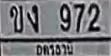2: (87, 3, 99, 31)
7: (73, 3, 84, 31)
9: (59, 3, 70, 31)
A02: (9, 5, 23, 32)
A07: (26, 4, 38, 32)
UDN: (31, 41, 77, 56)
